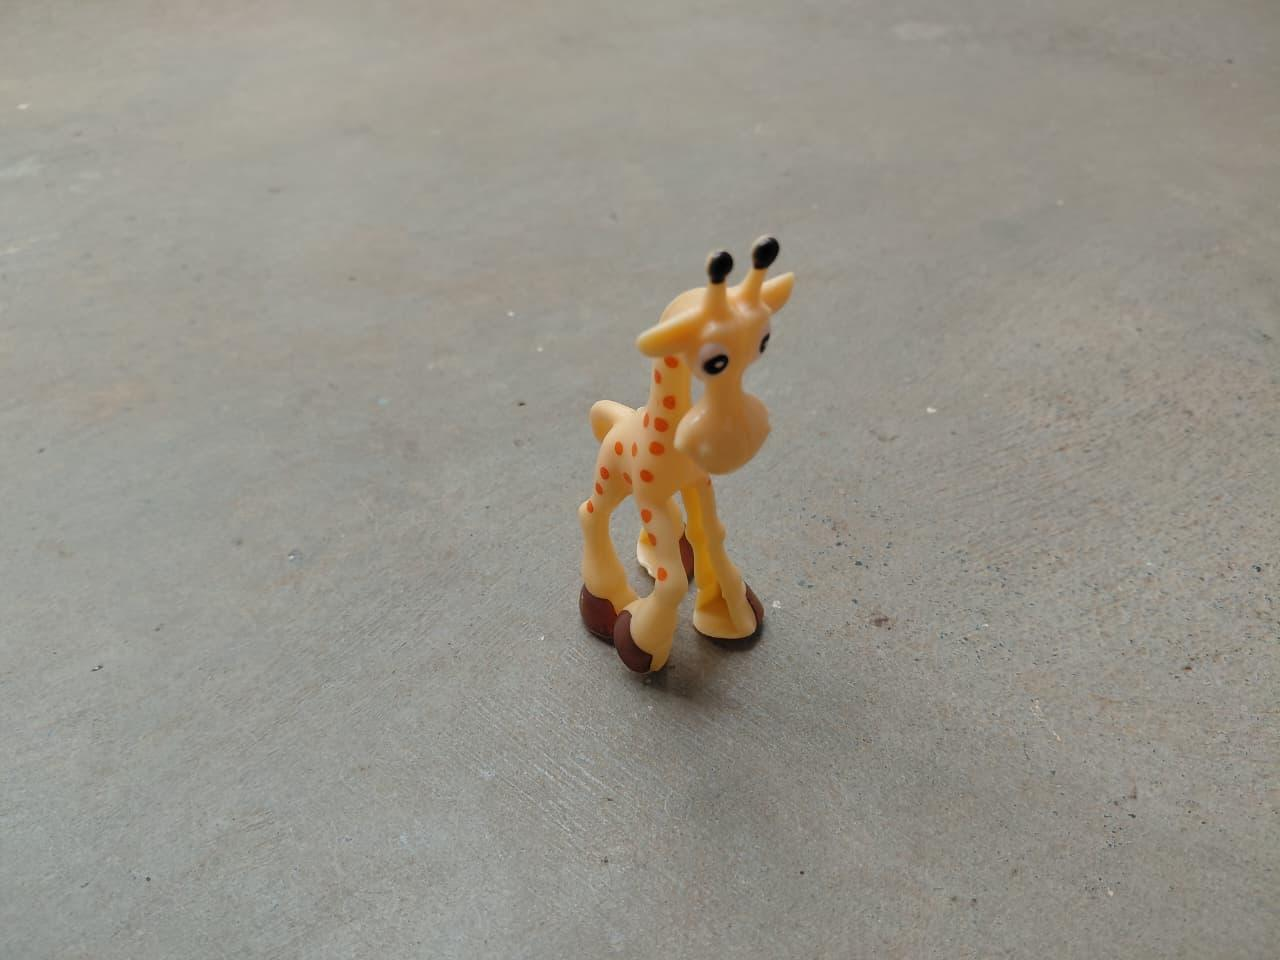giraffe: (566, 223, 806, 679)
